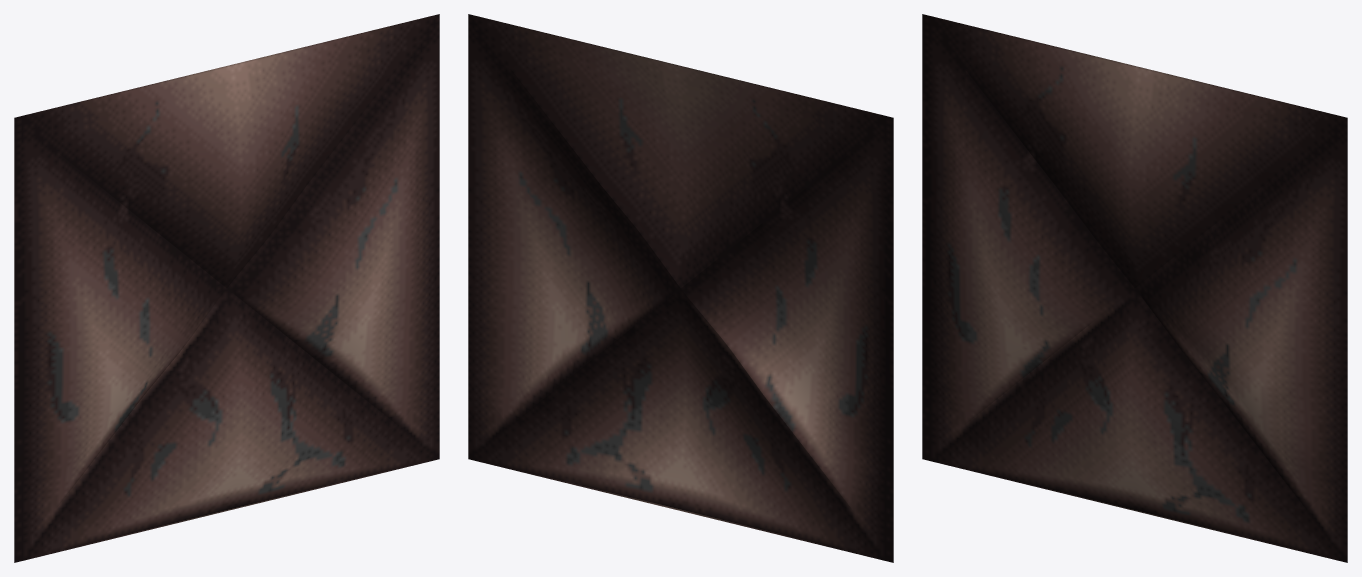
Rendered from eng2_5.fbx.
3 renders of one model, left to right at view 1: azimuth 30°, elevation 25°; view 2: azimuth 150°, elevation 25°; view 3: azimuth 330°, elevation 25°, orthographic.
Parts seen in each view (by area): view 1: eng2_5_mesh; view 2: eng2_5_mesh; view 3: eng2_5_mesh.
Boxes of the visible parts, left/top/right/bottom form: eng2_5_mesh: left=14, top=14, right=439, bottom=562; eng2_5_mesh: left=468, top=14, right=893, bottom=562; eng2_5_mesh: left=922, top=14, right=1347, bottom=562.
Bounding box in the file's own units: 256 × 256 × 9.77.
